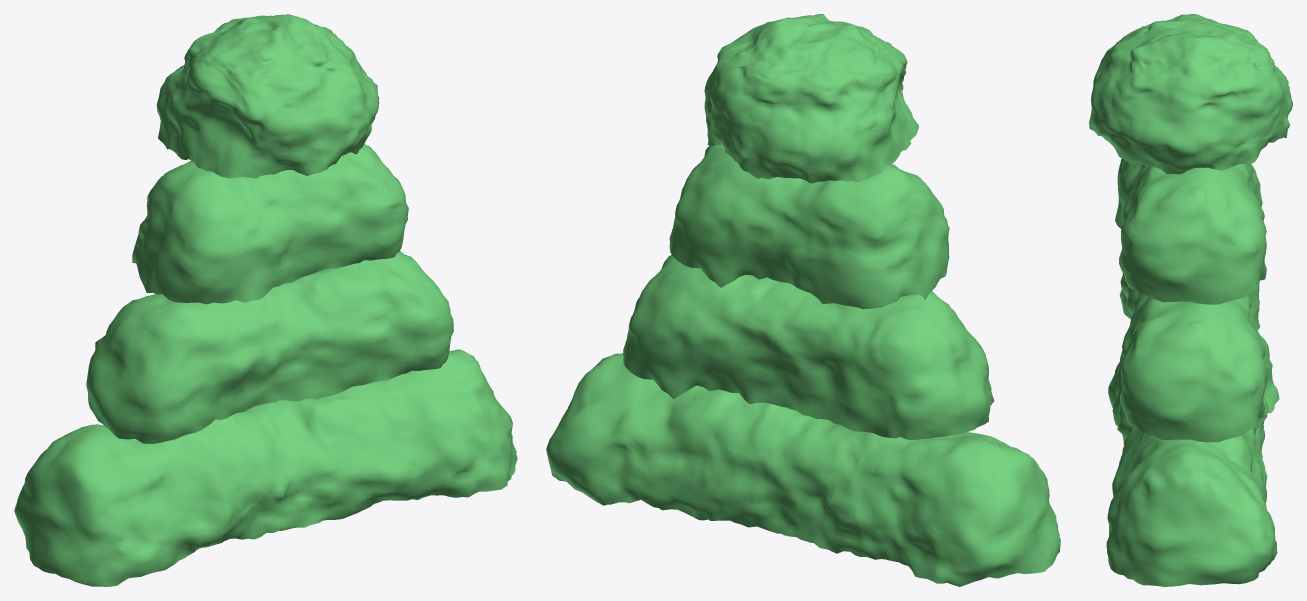
Rendered from Bushes.fbx.
3 renders of one model, left to right at view 1: azimuth 30°, elevation 25°; view 2: azimuth 150°, elevation 25°; view 3: azimuth 270°, elevation 25°, orthographic. The views are drawn at different scales.
Visible parts, largest first — view 1: B_ExtraLarge, B_Large, B_Medium, B_Short; view 2: B_ExtraLarge, B_Large, B_Medium, B_Short; view 3: B_Short, B_ExtraLarge, B_Large, B_Medium.
Boxes of the visible parts, <box> form: B_ExtraLarge: <box>14,349,517,586</box>; B_Large: <box>86,251,453,443</box>; B_Medium: <box>132,144,408,304</box>; B_Short: <box>156,14,379,178</box>; B_ExtraLarge: <box>546,353,1060,586</box>; B_Large: <box>623,255,994,440</box>; B_Medium: <box>669,145,949,309</box>; B_Short: <box>704,14,918,183</box>; B_Short: <box>1089,14,1292,174</box>; B_ExtraLarge: <box>1106,331,1279,586</box>; B_Large: <box>1119,273,1266,442</box>; B_Medium: <box>1115,158,1266,304</box>.
Size of the model in its own units: 1213 by 1189 by 477.
